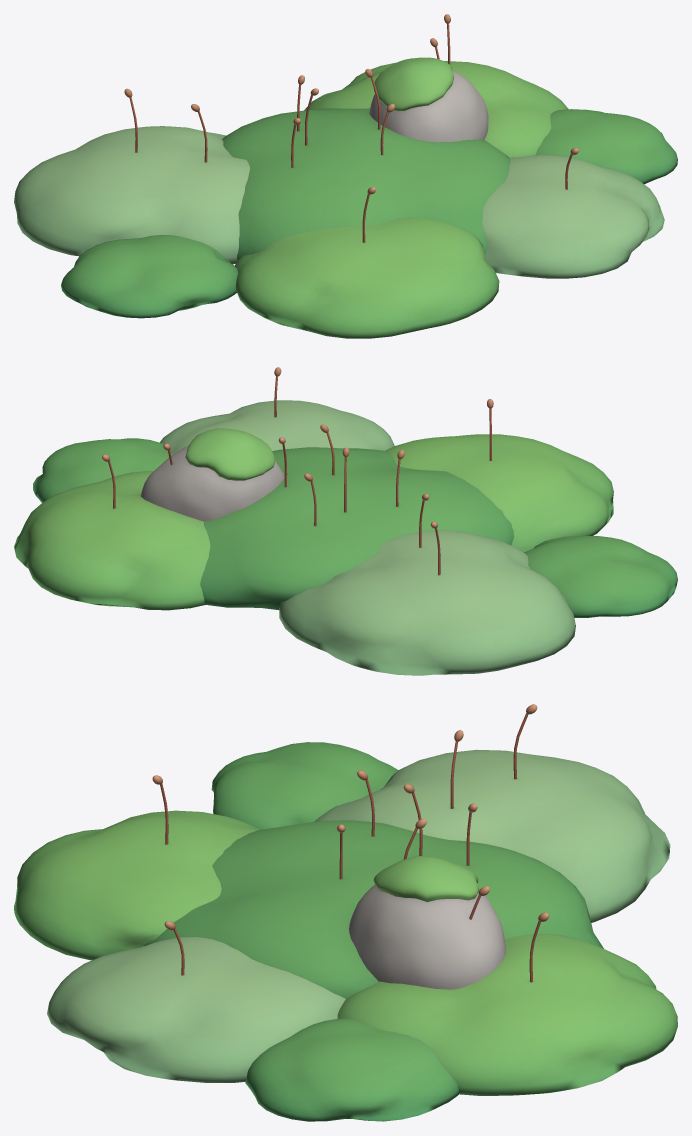
The model's file is moss-patch.glb.
3 renders of one model, top to bottom at view 1: azimuth 30°, elevation 25°; view 2: azimuth 150°, elevation 25°; view 3: azimuth 270°, elevation 25°, orthographic. The views are drawn at different scales.
Parts seen in each view (by area): view 1: moss-patch_body; view 2: moss-patch_body; view 3: moss-patch_body.
Part boxes in pixels (<box>): moss-patch_body: <box>14,14,677,338</box>; moss-patch_body: <box>14,367,677,675</box>; moss-patch_body: <box>14,704,677,1121</box>.
Size of the model in its own units: 0.5474 by 0.0997 by 0.4183.
Materials: 1 (1 with a texture image).
